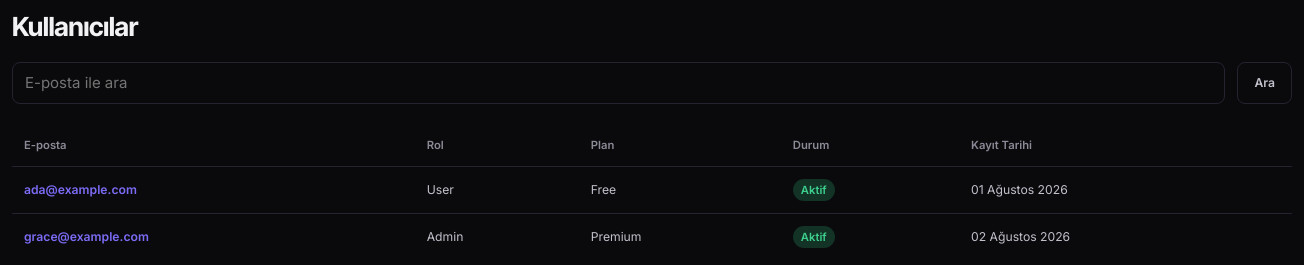
Test: AdminUsersPage › sends the search term to the backend, never filtering client-side
Expected: the link "ada@example.com" is shown, [24,182,137,197]
In the search field: {"x": 619, "y": 83} [12,62,1225,104], type "ada"
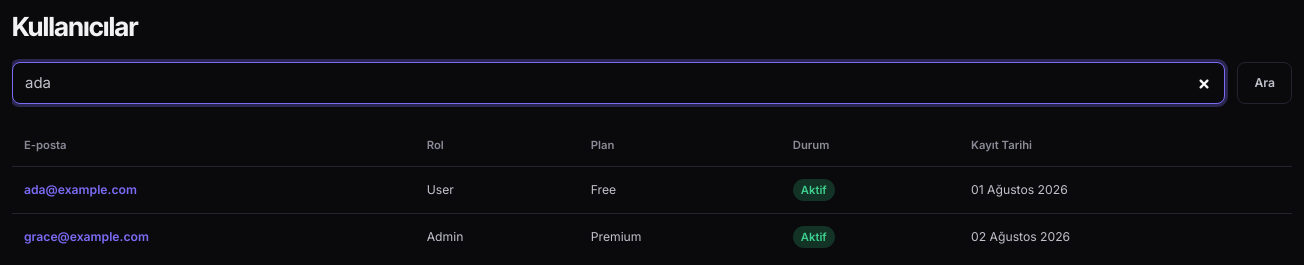
Click the button "Ara": {"x": 1265, "y": 83} [1237,62,1292,104]
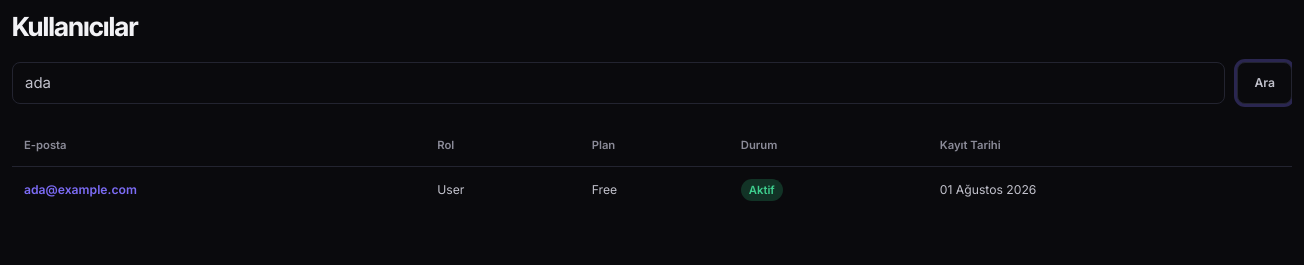
Expected: the link "ada@example.com" is shown, [24,182,137,197]
Expected: the link "grace@example.com" is gone
